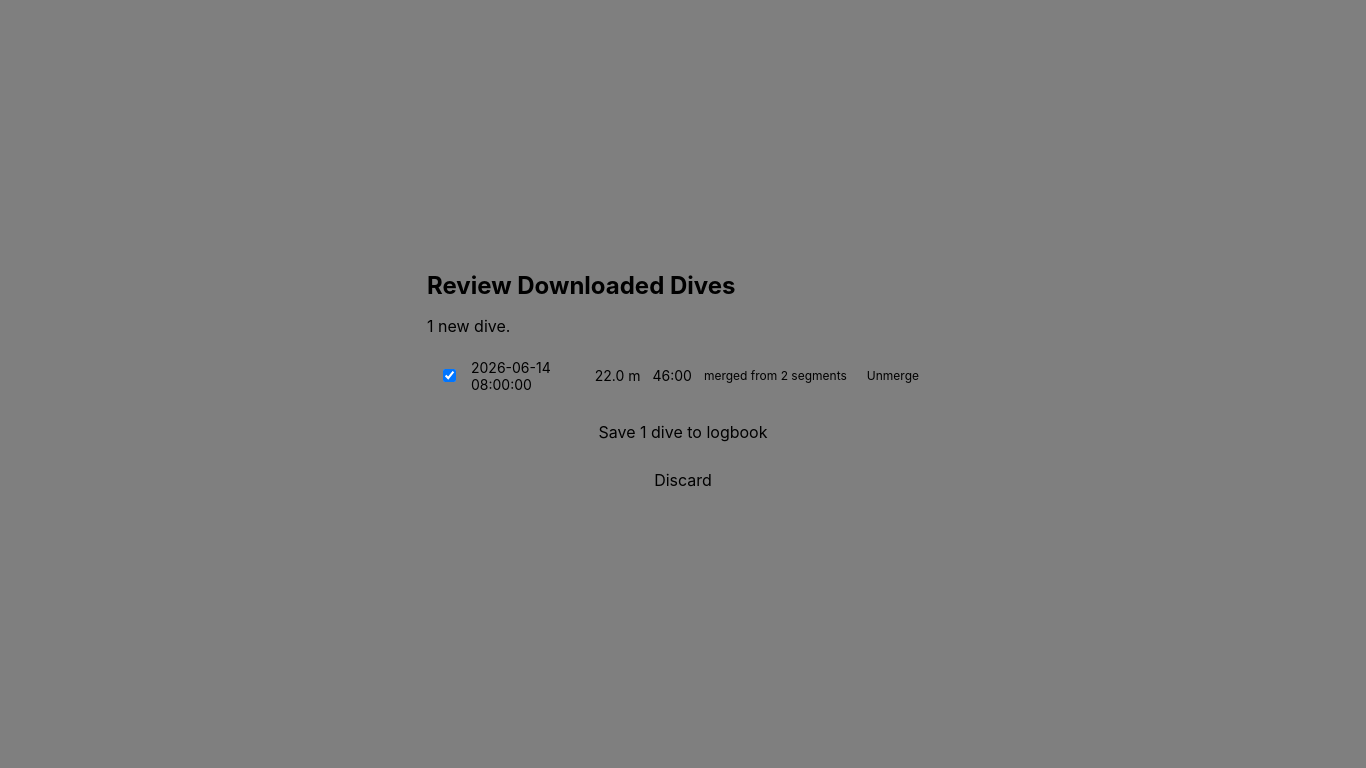
Test: DcDownloadDialog › shows an Unmerge control for a group folded from multiple segments, and lets the user split it
Expected: the heading "Review Downloaded Dives" is shown, [427, 271, 736, 300]
Expected: the text "merged from 2 segments" is shown, [704, 368, 847, 383]
Click the button "Unmerge" at (893, 376), box [859, 365, 927, 386]
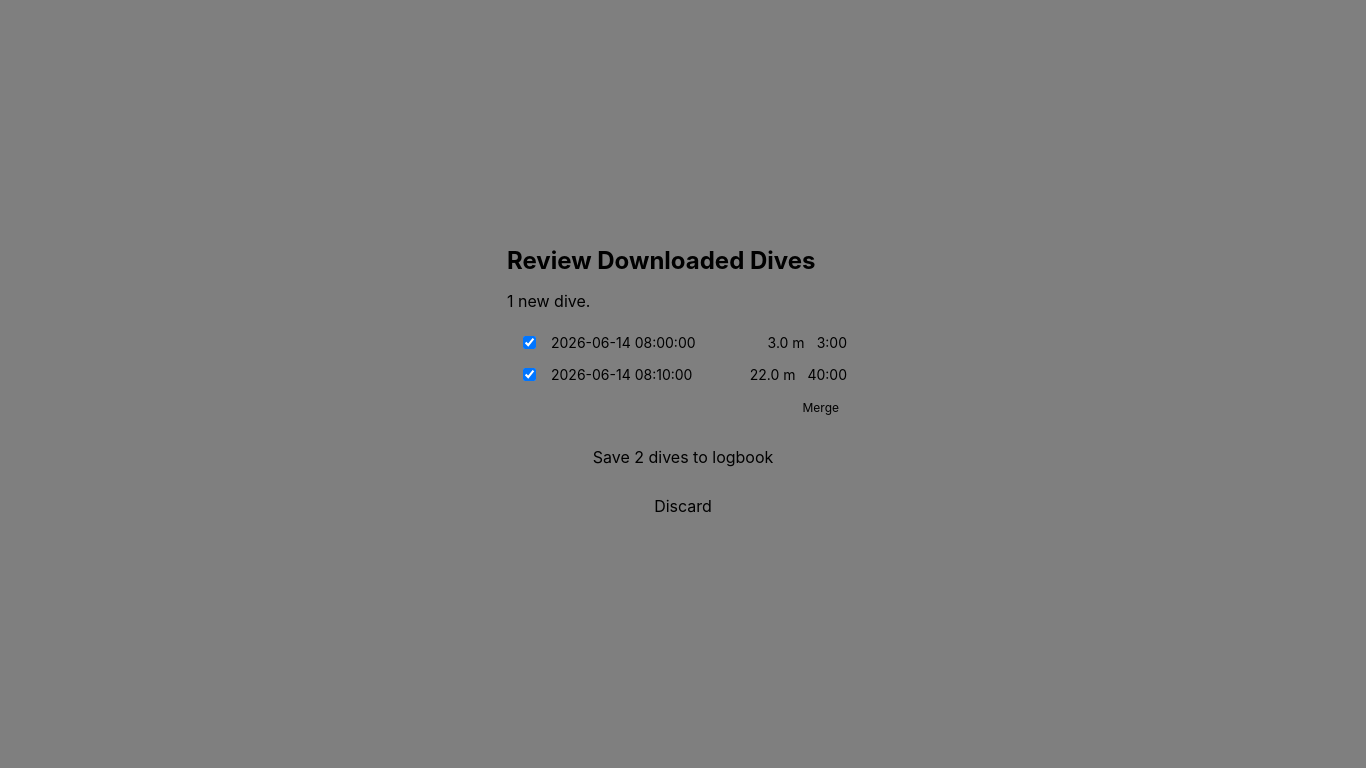
Expected: the button "Merge" is shown, [794, 397, 847, 418]
Result: the number of checkboxes is 2 at [523, 336, 536, 349]; [523, 368, 536, 381]
